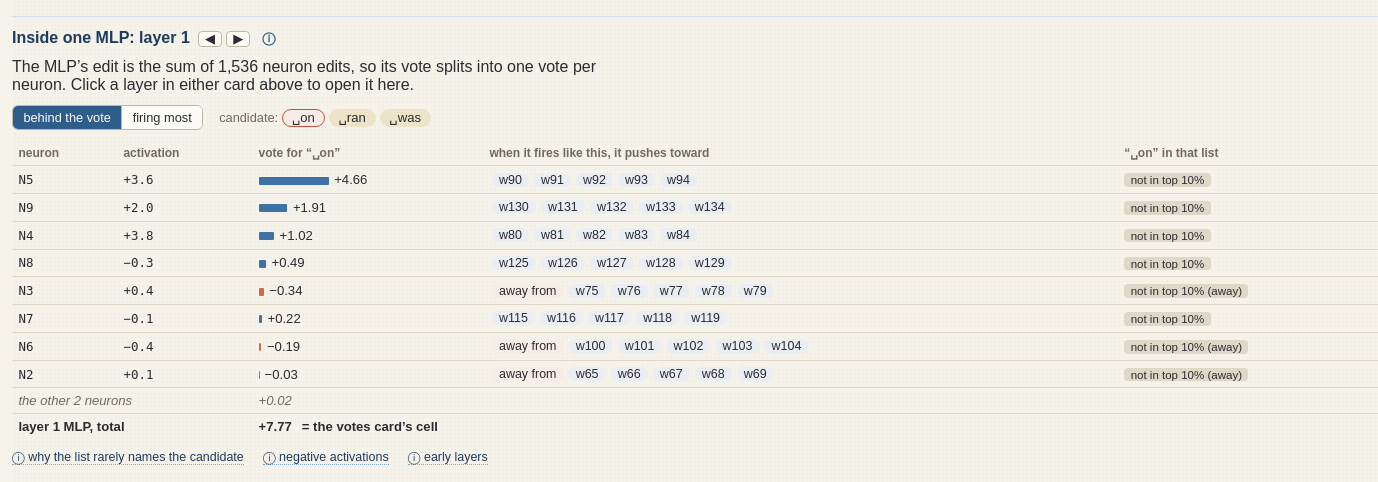
Test: firing most drops the candidate, the badge and the total
The width and height of the screenshot is (1378, 482).
Click the button with test id "neuron-mode-toggle" showing "firing most" at (162, 118), box [121, 106, 202, 129]
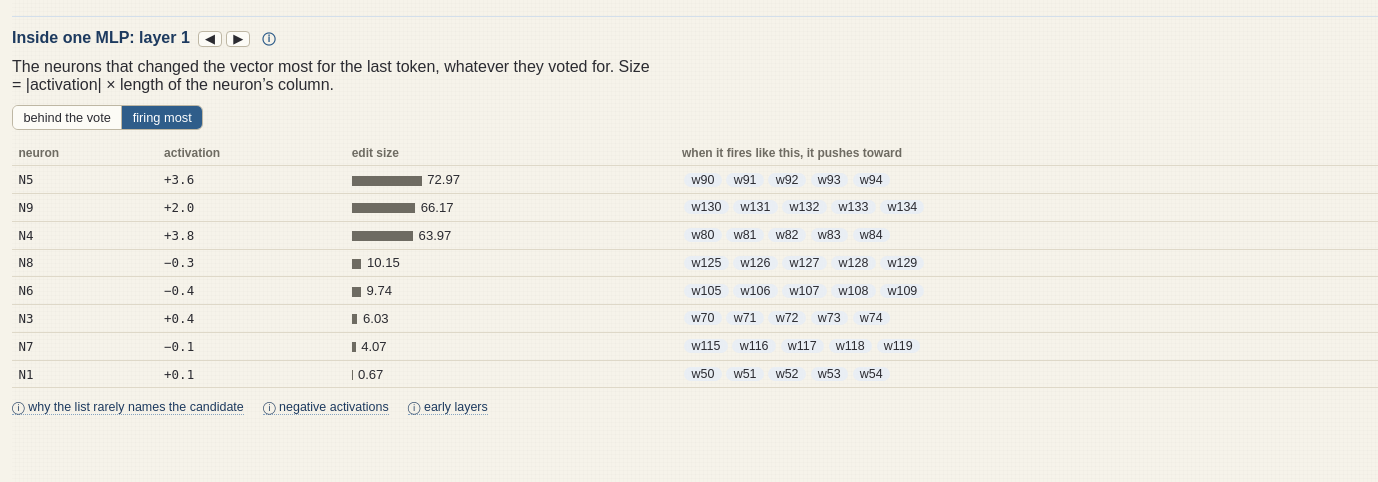
Expected: the table with test id "neuron-table" shows "edit size", [352, 146, 399, 160]
Expected: the text with test id "neuron-badge" is gone
Expected: the row with test id "neuron-total" is gone
